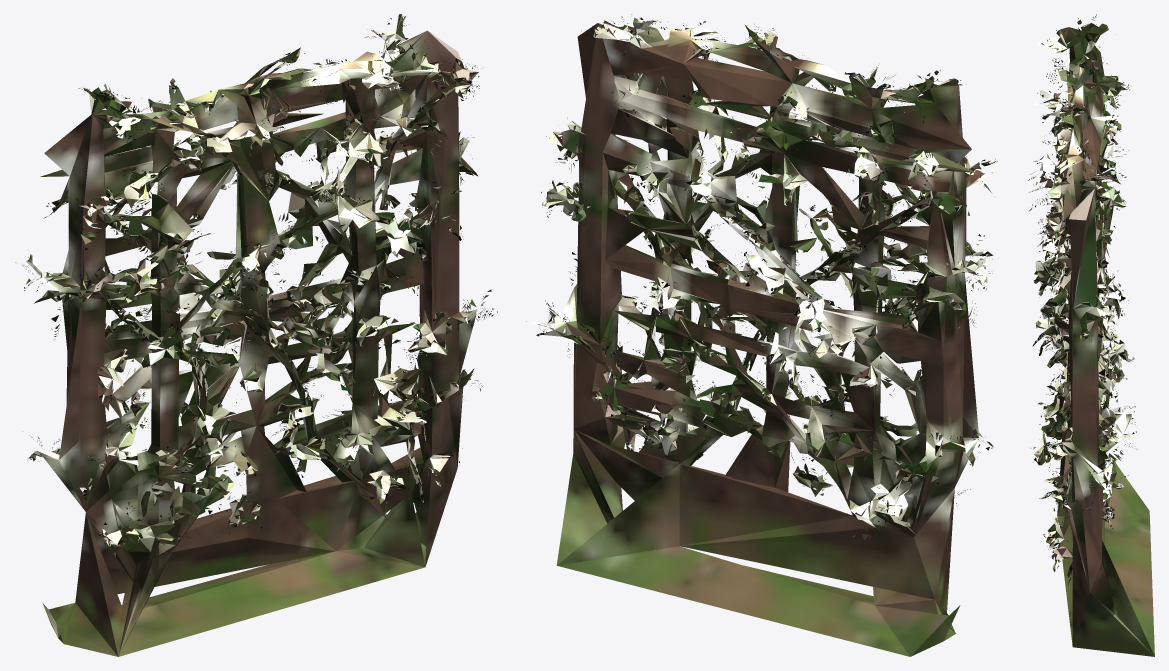
File: Starflower_Trellis.fbx
3 renders of one model, left to right at view 1: azimuth 30°, elevation 25°; view 2: azimuth 150°, elevation 25°; view 3: azimuth 270°, elevation 25°, orthographic. The views are drawn at different scales.
Parts seen in each view (by area): view 1: Starflower_Trellis_LOD0; view 2: Starflower_Trellis_LOD0; view 3: Starflower_Trellis_LOD0.
Boxes of the visible parts, x1,y1,x2,y2 form: Starflower_Trellis_LOD0: (15, 14, 497, 656); Starflower_Trellis_LOD0: (526, 14, 997, 656); Starflower_Trellis_LOD0: (1028, 14, 1154, 656).
Size of what is drawn, in the model's own units: 1.62 by 1.89 by 0.4398.
1 material, 1 textured.
